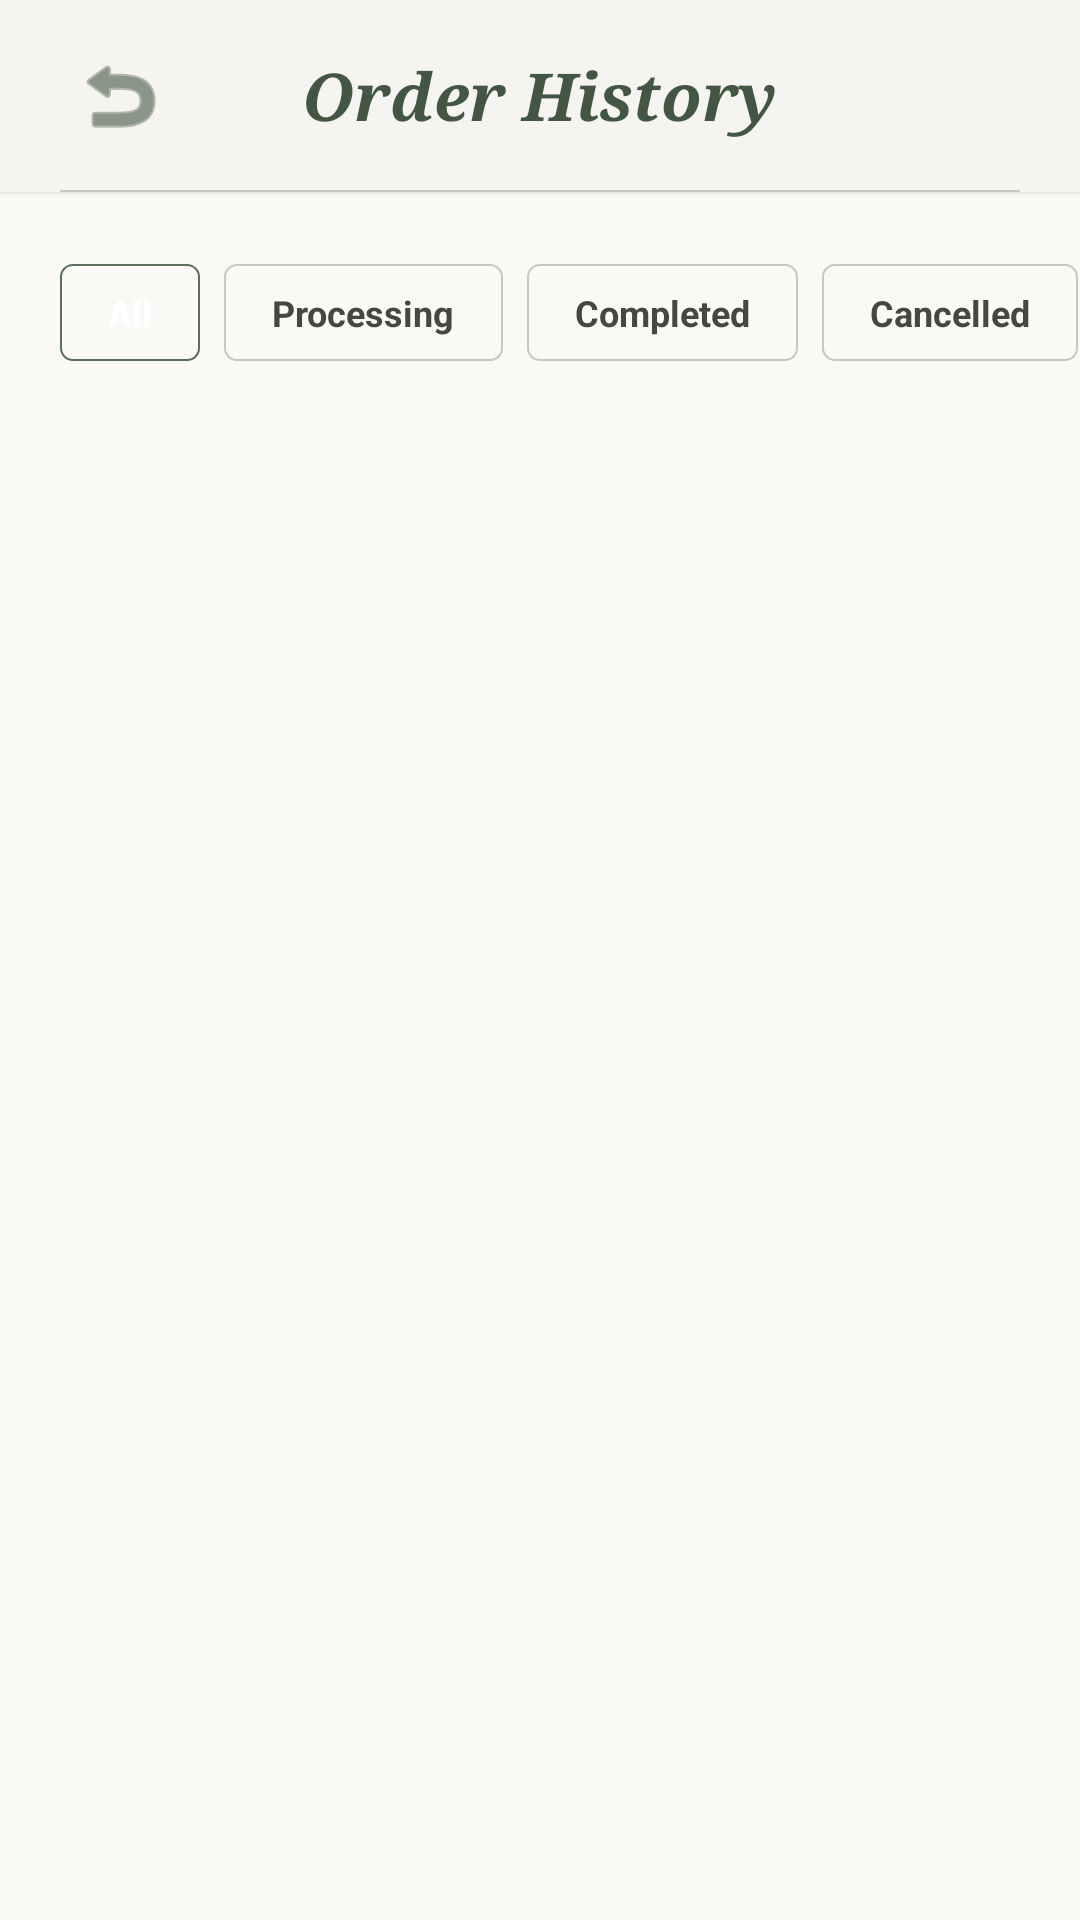

Where to tap for icons on this 1080px×1920px app screen, as point (x, y):
revert: point (121, 96)
